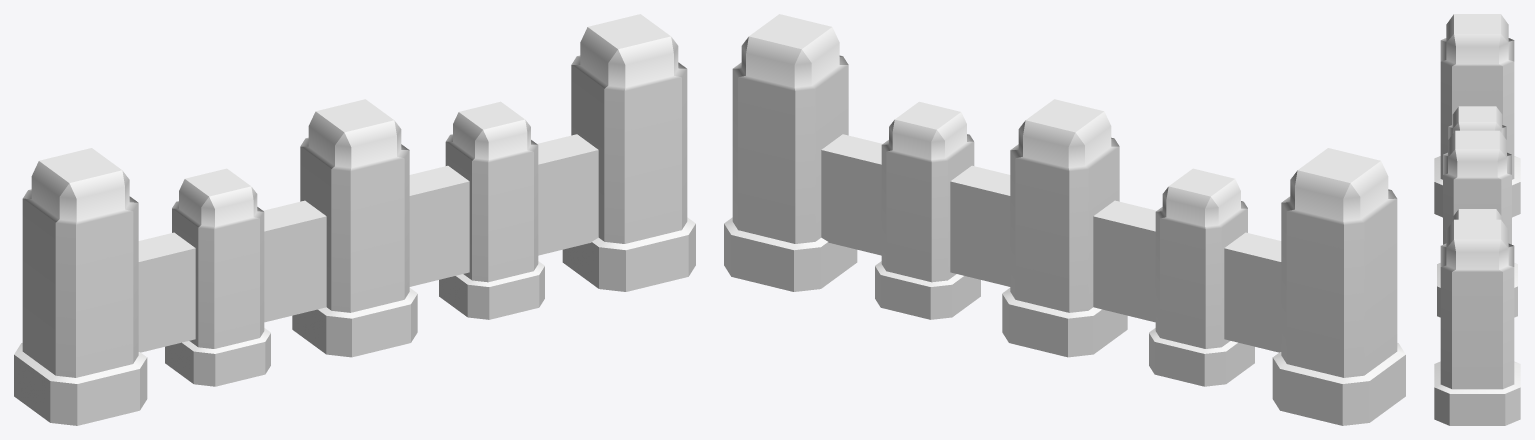
File: Wall_Lv7_1.fbx
3 views of the same model, side by side, from view 1: azimuth 30°, elevation 25°; view 2: azimuth 150°, elevation 25°; view 3: azimuth 270°, elevation 25° (orthographic). The views are drawn at different scales.
Visible parts, largest first — view 1: Wall; view 2: Wall; view 3: Wall.
Part boxes in pixels (x1=…): Wall: x1=14, y1=14, x2=695, y2=425; Wall: x1=724, y1=14, x2=1405, y2=425; Wall: x1=1434, y1=14, x2=1520, y2=425.
Bounding box in the file's own units: 1.57 × 0.5392 × 0.2356.
